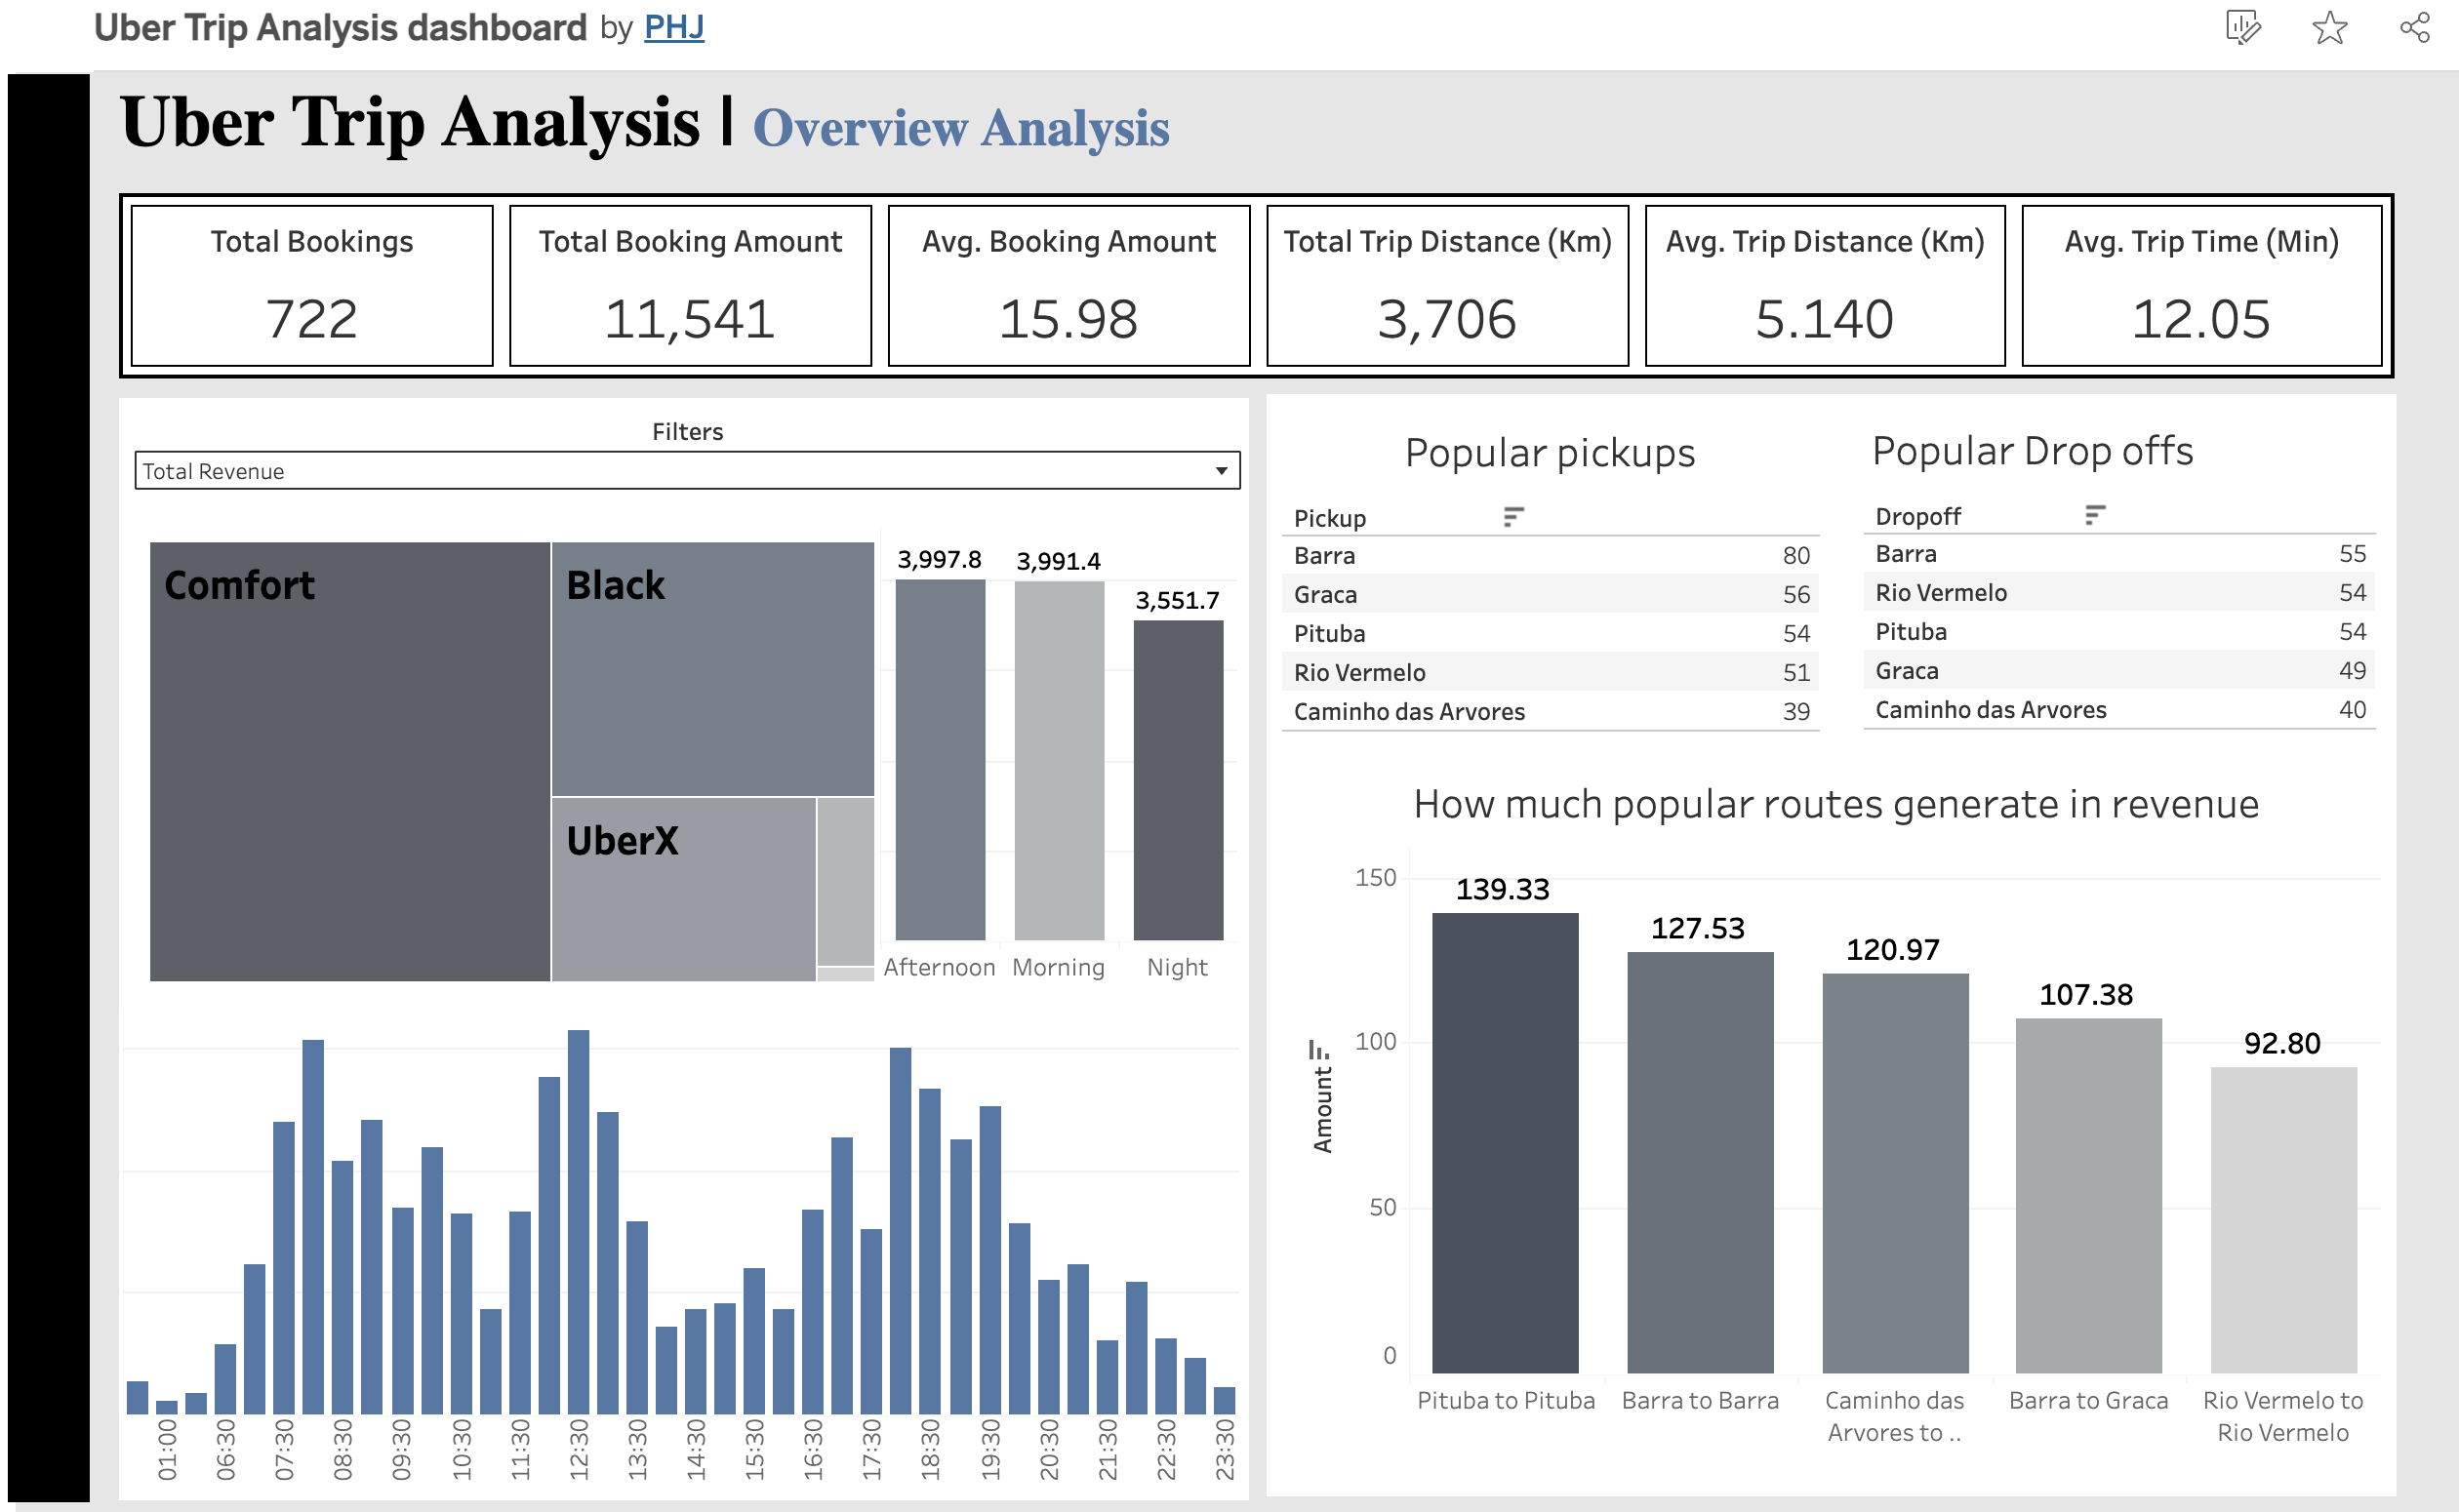

The page's visual inventory and layout, read from the dashboard file:
{"tool":"tableau","page":{"name":"Dashboard 1","canvas":[1600,900],"ordinal":0},"visuals":[{"type":"blank","box":[4,1,42,732]},{"type":"text","box":[61,1,593,49]},{"type":"worksheet","title":"T.Booking","mark":"Text","box":[63,64,194,91]},{"type":"worksheet","title":"T.B.Amount","mark":"Automatic","box":[257,64,194,91]},{"type":"worksheet","title":"A.B.Amount","mark":"Automatic","box":[451,64,194,91]},{"type":"worksheet","title":"T.Trip.Distance","mark":"Automatic","box":[645,64,194,91]},{"type":"worksheet","title":"Avg. T. Distance","mark":"Automatic","box":[839,64,193,91]},{"type":"worksheet","title":"Avg. T. Time","mark":"Automatic","box":[1032,64,193,91]},{"type":"blank","box":[649,165,579,565]},{"type":"blank","box":[61,167,579,565]},{"type":"worksheet","title":"Pop. Drop","mark":"Automatic","rows":["Dropoff"],"box":[955,173,263,197]},{"type":"worksheet","title":"Pop. Pickup","mark":"Automatic","rows":["Pickup"],"box":[657,174,276,203]},{"type":"parameter","param":"[Parameters].[Parameter 1]","box":[68,175,569,46]},{"type":"worksheet","title":"Categories","mark":"Automatic","box":[72,221,380,259]},{"type":"worksheet","title":"G.Times","mark":"Automatic","rows":["Calculation_3059070048204881921"],"cols":["TIME OF DAY"],"box":[451,233,183,234]},{"type":"worksheet","title":"Pop. Route","mark":"Automatic","rows":["Amount"],"cols":["Calculation_3368340678901112832"],"box":[662,354,558,353]},{"type":"worksheet","title":"H.F.","mark":"Bar","rows":["Calculation_3059070048204881921"],"cols":["HOURS"],"box":[63,481,572,244]}]}

Visuals, with their boxes on the page's 1600x900 design canvas (x1, y1, x2, y2). These are canvas units, not pixel positions in the 2459x1512 screenshot, which may show the page scaled, cropped or inside an application window:
blank: l=4, t=1, r=46, b=733
text: l=61, t=1, r=654, b=50
"T.Booking" worksheet (Text marks): l=63, t=64, r=257, b=155
"T.B.Amount" worksheet: l=257, t=64, r=451, b=155
"A.B.Amount" worksheet: l=451, t=64, r=645, b=155
"T.Trip.Distance" worksheet: l=645, t=64, r=839, b=155
"Avg. T. Distance" worksheet: l=839, t=64, r=1032, b=155
"Avg. T. Time" worksheet: l=1032, t=64, r=1225, b=155
blank: l=649, t=165, r=1228, b=730
blank: l=61, t=167, r=640, b=732
"Pop. Drop" worksheet: l=955, t=173, r=1218, b=370
"Pop. Pickup" worksheet: l=657, t=174, r=933, b=377
parameter: l=68, t=175, r=637, b=221
"Categories" worksheet: l=72, t=221, r=452, b=480
"G.Times" worksheet: l=451, t=233, r=634, b=467
"Pop. Route" worksheet: l=662, t=354, r=1220, b=707
"H.F." worksheet (Bar marks): l=63, t=481, r=635, b=725
